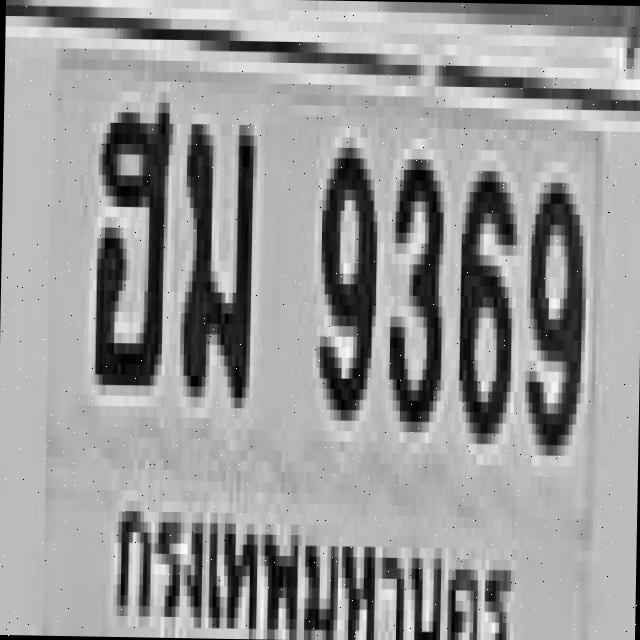3: (384, 148, 440, 422)
42MorMa: (175, 108, 250, 392)
53HorNokHook: (91, 90, 169, 375)
6: (456, 160, 512, 434)
9: (522, 172, 582, 446), (315, 137, 375, 410)
Bangkok: (108, 463, 519, 640)
